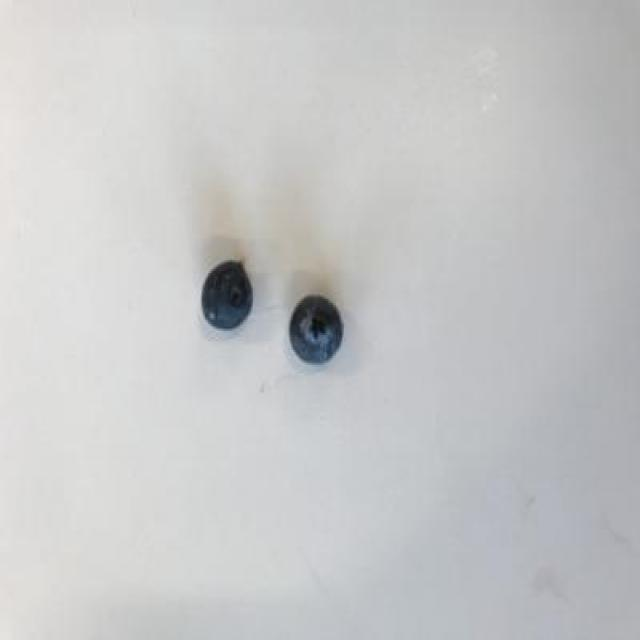compost: (174, 203, 371, 435)
